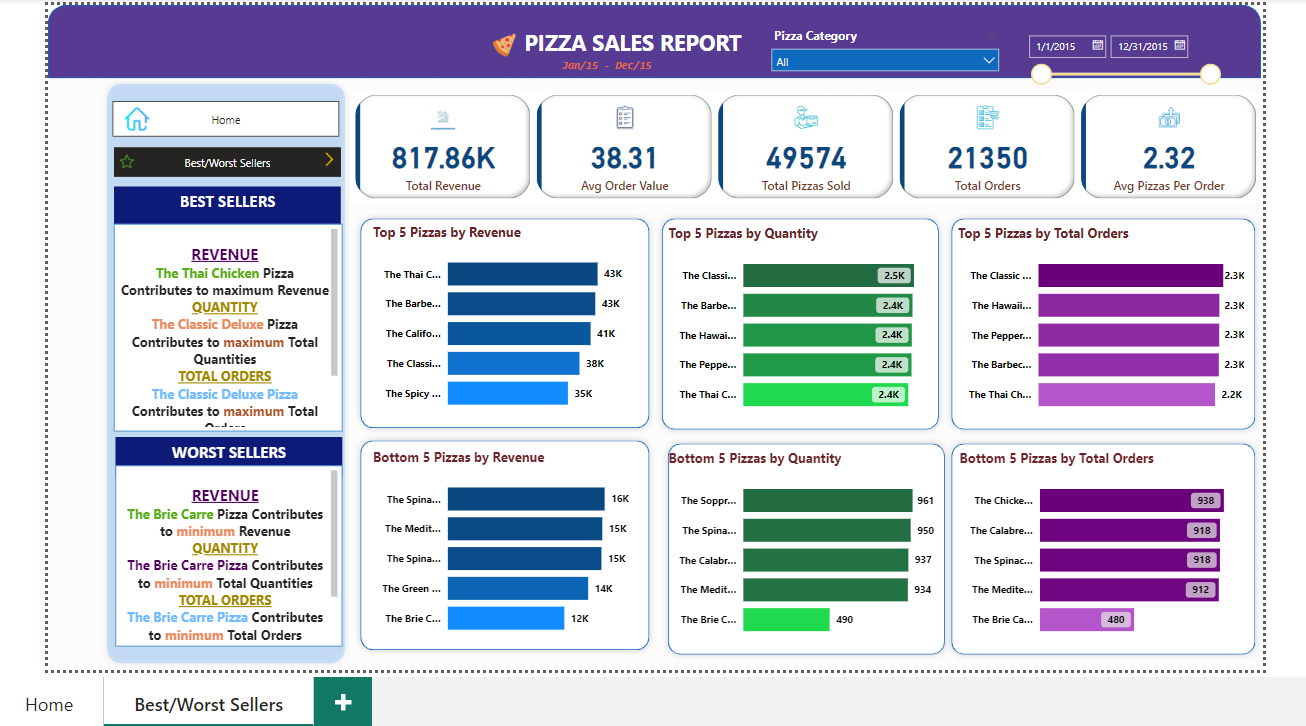

The page's visual inventory and layout, read from the dashboard file:
{"tool":"powerbi","page":{"name":"Best/Worst Sellers","canvas":[1500,820],"ordinal":1},"visuals":[{"type":"shape","box":[64.5,88.5,309.8,732.1],"z":0},{"type":"cardVisual","fields":{"Data":["pizza_sales.Total Revenue","pizza_sales.Avg Order Value","pizza_sales.Total Pizzas Sold","pizza_sales.Total Orders","pizza_sales.Avg Pizzas Per Order"]},"box":[374.4,105.1,1124.9,138.3],"z":1000},{"type":"shape","box":[0,0,1497.4,90.4],"z":2000},{"type":"textbox","box":[628.8,59,182.6,29.5],"z":3000},{"type":"textbox","box":[583.3,22.7,300,51.5],"z":4000},{"type":"image","box":[542.4,28.8,40.9,39.4],"z":5000},{"type":"textbox","box":[81.1,225,280.3,46.1],"z":6000},{"type":"shape","box":[378,256.3,372.5,274.8],"z":7000},{"type":"textbox","box":[81.1,271.1,282.2,256.3],"z":8000},{"type":"textbox","box":[83,533,280.3,49.8],"z":9000},{"type":"textbox","box":[83,568,280.3,223.1],"z":10000},{"type":"slicer","fields":{"Values":["pizza_sales.pizza_category"]},"box":[883.3,22.1,300.6,66.4],"z":11000},{"type":"slicer","fields":{"Values":["pizza_sales.order_date"]},"box":[1198.7,22.1,258.2,95.9],"z":12000},{"type":"shape","box":[750.6,256.3,357.8,276.6],"z":13000},{"type":"shape","box":[1108.3,256.3,391,276.6],"z":14000},{"type":"shape","box":[378,529.3,372.5,274.8],"z":15000},{"type":"shape","box":[757.9,533,357.8,276.6],"z":16000},{"type":"shape","box":[1108.3,533,391,276.6],"z":17000},{"type":"barChart","title":"Top 5 Pizzas by Revenue","fields":{"Category":["pizza_sales.pizza_name"],"Y":["pizza_sales.Total Revenue"]},"box":[396.5,269.2,337.5,245.3],"z":18000},{"type":"barChart","title":"Bottom 5 Pizzas by Revenue","fields":{"Category":["pizza_sales.pizza_name"],"Y":["pizza_sales.Total Revenue"]},"box":[396.5,545.9,337.5,245.3],"z":19000},{"type":"barChart","title":"Top 5 Pizzas by Quantity","fields":{"Category":["pizza_sales.pizza_name"],"Y":["pizza_sales.Total Pizzas Sold"]},"box":[761.6,271.1,337.5,245.3],"z":20000},{"type":"barChart","title":"Bottom 5 Pizzas by Quantity","fields":{"Category":["pizza_sales.pizza_name"],"Y":["pizza_sales.Total Pizzas Sold"]},"box":[761.6,547.7,337.5,245.3],"z":21000},{"type":"barChart","title":"Top 5 Pizzas by Total Orders","fields":{"Category":["pizza_sales.pizza_name"],"Y":["pizza_sales.Total Orders"]},"box":[1119.4,271.1,363.3,245.3],"z":22000},{"type":"barChart","title":"Bottom 5 Pizzas by Total Orders","fields":{"Category":["pizza_sales.pizza_name"],"Y":["pizza_sales.Total Orders"]},"box":[1121.2,547.7,363.3,245.3],"z":23000},{"type":"pageNavigator","box":[81.1,175.2,280.3,36.9],"z":24000},{"type":"pageNavigator","box":[79.3,118,280.3,44.3],"z":25000},{"type":"image","box":[81.1,119.9,57.2,40.6],"z":26000},{"type":"image","box":[333.8,167.8,27.7,44.3],"z":27000},{"type":"image","box":[83,160.4,27.7,64.5],"z":28000}]}

Visuals, with their boxes on the page's 1500x820 design canvas (x1, y1, x2, y2). These are canvas units, not pixel positions in the 1306x726 screenshot, which may show the page scaled, cropped or inside an application window:
shape: bbox=[64, 88, 374, 821]
cardVisual - pizza_sales.Total Revenue x pizza_sales.Avg Order Value: bbox=[374, 105, 1499, 243]
shape: bbox=[0, 0, 1497, 90]
textbox: bbox=[629, 59, 811, 88]
textbox: bbox=[583, 23, 883, 74]
image: bbox=[542, 29, 583, 68]
textbox: bbox=[81, 225, 361, 271]
shape: bbox=[378, 256, 750, 531]
textbox: bbox=[81, 271, 363, 527]
textbox: bbox=[83, 533, 363, 583]
textbox: bbox=[83, 568, 363, 791]
slicer - pizza_sales.pizza_category: bbox=[883, 22, 1184, 88]
slicer - pizza_sales.order_date: bbox=[1199, 22, 1457, 118]
shape: bbox=[751, 256, 1108, 533]
shape: bbox=[1108, 256, 1499, 533]
shape: bbox=[378, 529, 750, 804]
shape: bbox=[758, 533, 1116, 810]
shape: bbox=[1108, 533, 1499, 810]
"Top 5 Pizzas by Revenue" barChart: bbox=[396, 269, 734, 514]
"Bottom 5 Pizzas by Revenue" barChart: bbox=[396, 546, 734, 791]
"Top 5 Pizzas by Quantity" barChart: bbox=[762, 271, 1099, 516]
"Bottom 5 Pizzas by Quantity" barChart: bbox=[762, 548, 1099, 793]
"Top 5 Pizzas by Total Orders" barChart: bbox=[1119, 271, 1483, 516]
"Bottom 5 Pizzas by Total Orders" barChart: bbox=[1121, 548, 1484, 793]
pageNavigator: bbox=[81, 175, 361, 212]
pageNavigator: bbox=[79, 118, 360, 162]
image: bbox=[81, 120, 138, 160]
image: bbox=[334, 168, 362, 212]
image: bbox=[83, 160, 111, 225]
